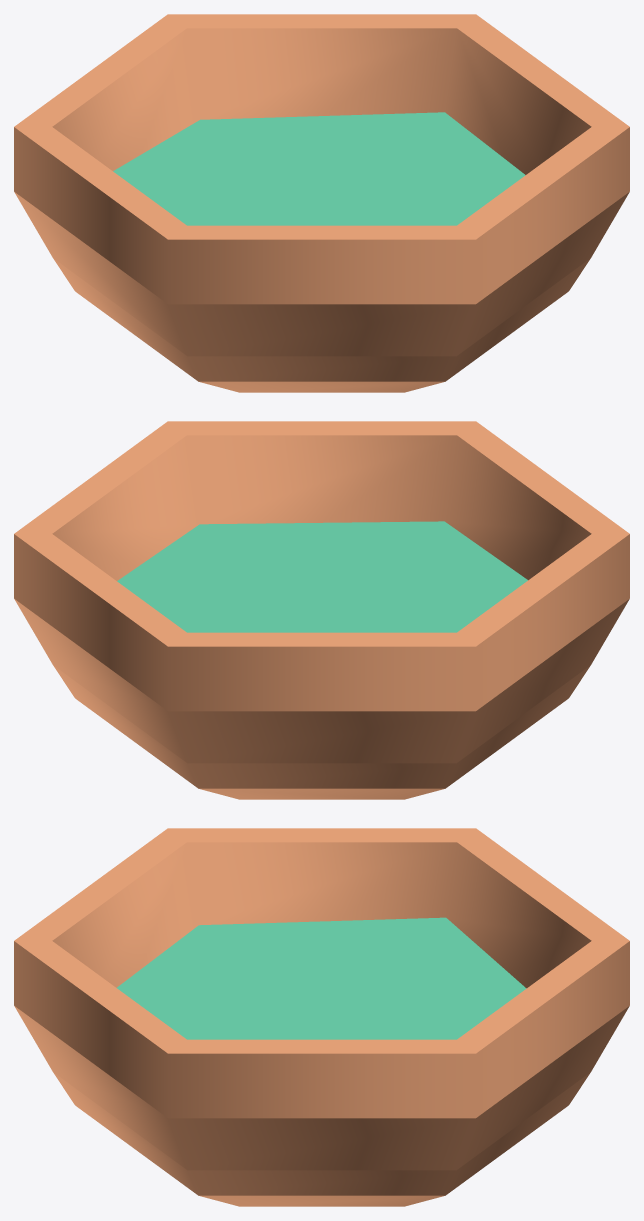
Rendered from saladBowlMixture.glb.
The picture shows the model from 3 angles, top to bottom: view 1: azimuth 30°, elevation 25°; view 2: azimuth 150°, elevation 25°; view 3: azimuth 270°, elevation 25°; orthographic projection.
Visible parts, largest first — view 1: saladBowlMixture; view 2: saladBowlMixture; view 3: saladBowlMixture.
Part boxes in pixels (bbox=[...]): saladBowlMixture: bbox=[14, 14, 629, 392]; saladBowlMixture: bbox=[14, 421, 629, 799]; saladBowlMixture: bbox=[14, 828, 629, 1206].
Size of the model in its own units: 0.5022 by 0.2138 by 0.5798.
